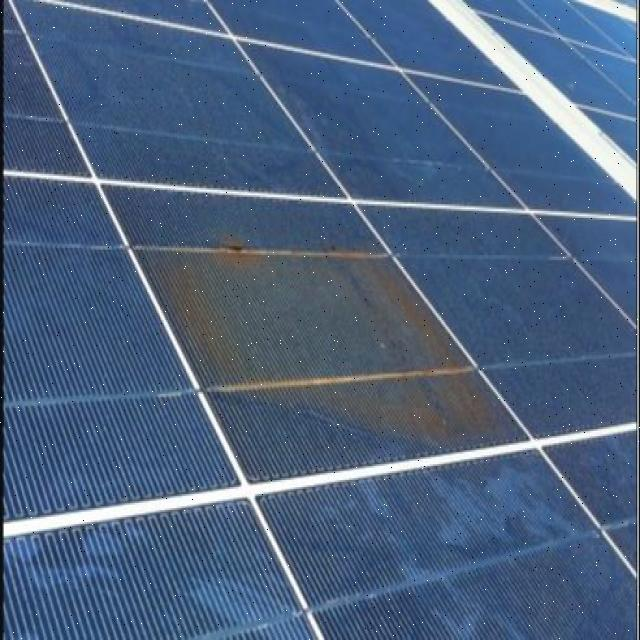electrical damage: (130, 249, 530, 494)
